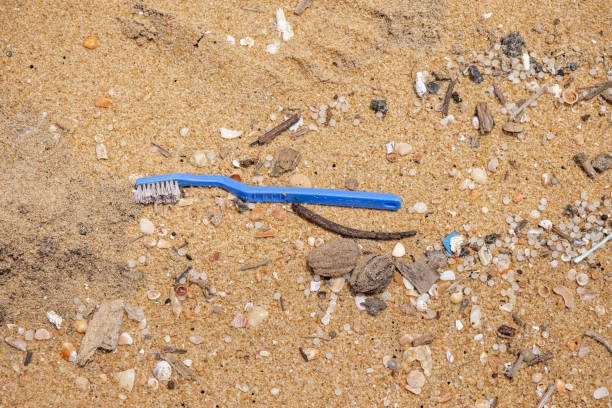General waste: (96, 137, 414, 237), (438, 227, 471, 266)
